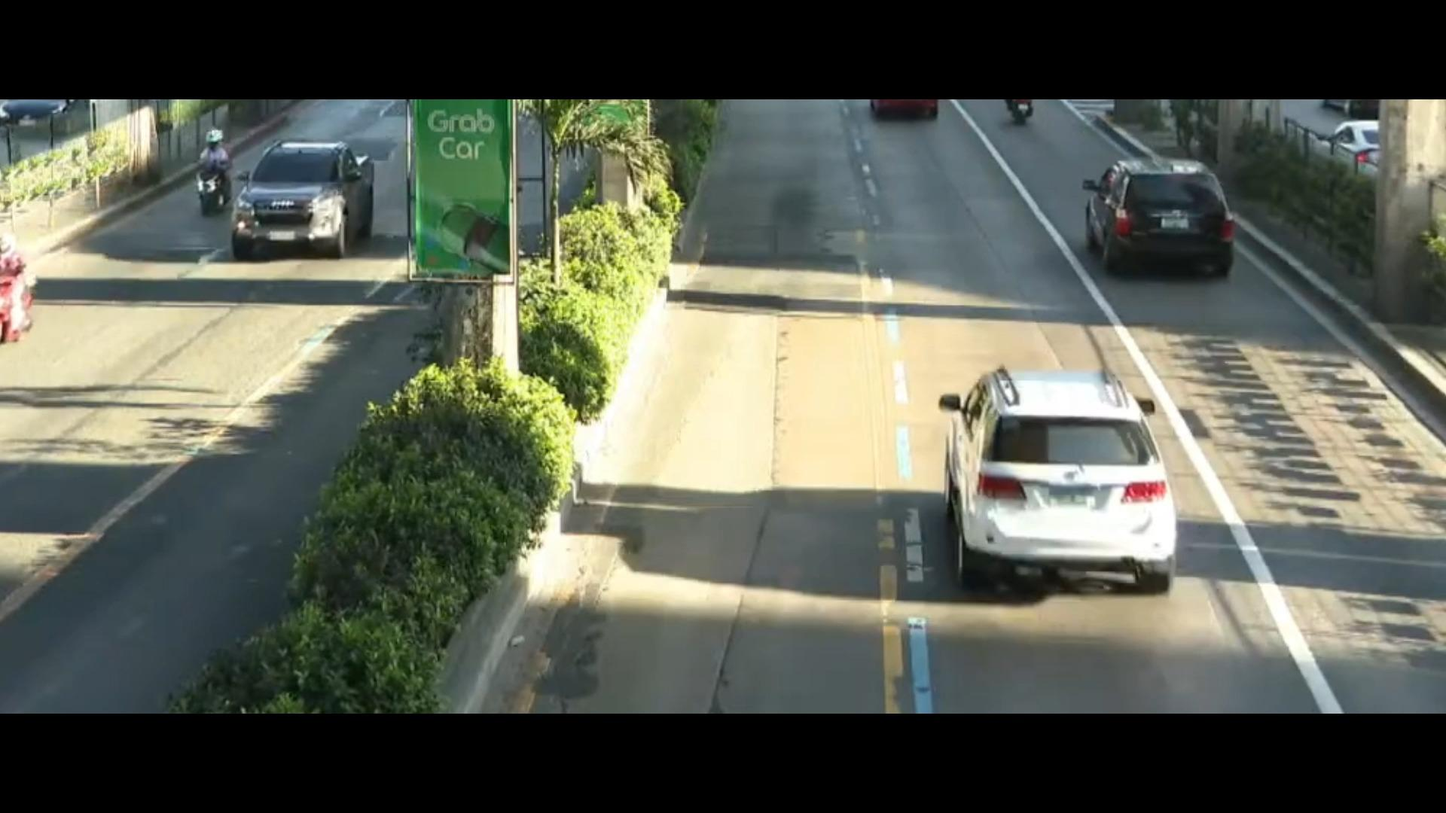Motorcycle: (174, 113, 241, 221), (0, 254, 61, 331)
Pickup: (225, 134, 396, 288)
SUV: (921, 335, 1210, 607), (1057, 149, 1275, 279)
